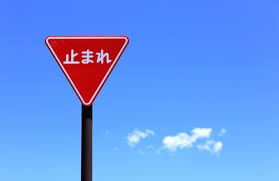Regulatory_sign_triangle: (44, 34, 133, 110)
